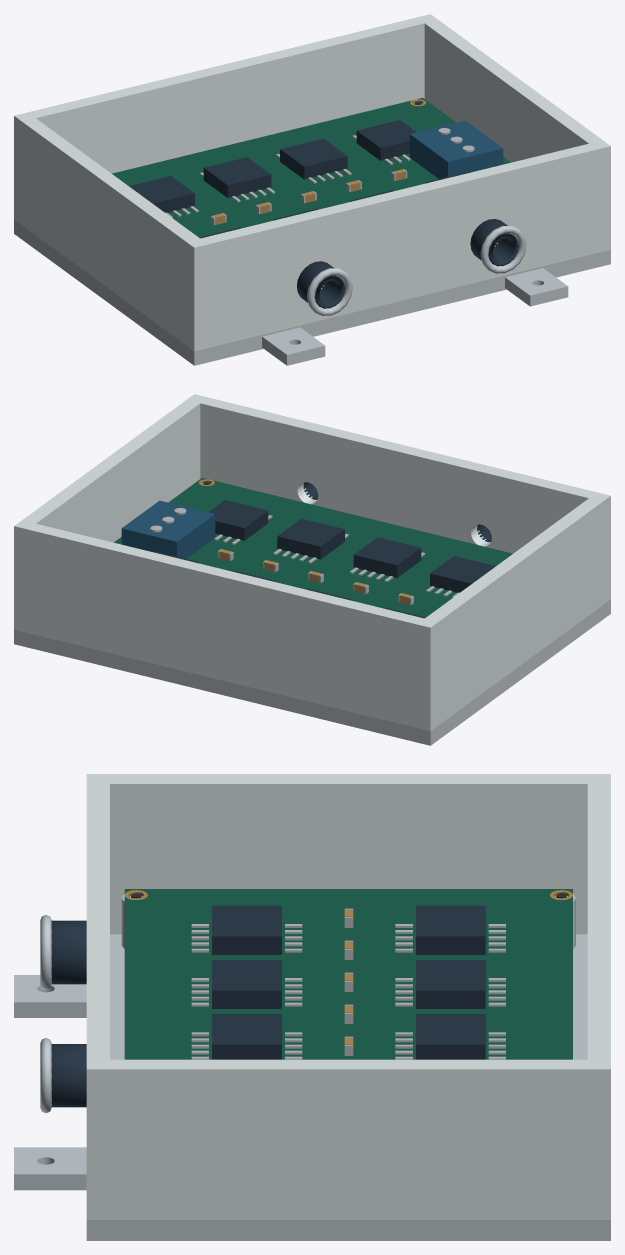
Rendered from control-box.glb.
3 views of the same model, one above another, from view 1: azimuth 30°, elevation 25°; view 2: azimuth 150°, elevation 25°; view 3: azimuth 270°, elevation 25° (orthographic). The views are drawn at different scales.
Parts seen in each view (by area): view 1: HousingWallZ0.086, HousingWallZ-0.086, HousingWallX-0.116, FR4Board, HousingWallX0.116, HousingBase, TerminalBody, IC_0_1, IC_0_2, MountLug-0.07, MountLug0.07, IC_0_3 (+5 smaller); view 2: HousingWallZ-0.086, HousingWallZ0.086, HousingWallX-0.116, FR4Board, HousingWallX0.116, HousingBase, TerminalBody, IC_1_1, IC_1_2, IC_1_3, IC_1_0; view 3: HousingWallX0.116, HousingWallX-0.116, FR4Board, HousingBase, HousingWallZ-0.086, HousingWallZ0.086, IC_0_0, IC_1_0, IC_0_1, IC_1_1, IC_0_2, IC_1_2 (+6 smaller).
Part boxes in pixels (x1,y1,x2,y2): HousingWallZ0.086: (186, 140, 610, 351); HousingWallZ-0.086: (14, 14, 437, 224); HousingWallX-0.116: (22, 118, 199, 344); FR4Board: (112, 97, 510, 237); HousingWallX0.116: (424, 20, 602, 162); HousingBase: (14, 219, 610, 365); TerminalBody: (409, 120, 503, 178); IC_0_1: (203, 157, 271, 197); IC_0_2: (280, 138, 347, 179); MountLug-0.07: (262, 327, 325, 365); MountLug0.07: (505, 268, 568, 306); IC_0_3: (356, 120, 416, 160); HousingWallZ-0.086: (14, 520, 438, 731); HousingWallZ0.086: (187, 394, 610, 604); HousingWallX-0.116: (425, 498, 602, 724); FR4Board: (114, 478, 512, 617); HousingWallX0.116: (22, 400, 200, 542); HousingBase: (14, 599, 610, 745); TerminalBody: (121, 500, 215, 558); IC_1_1: (353, 537, 421, 577); IC_1_2: (277, 518, 344, 559); IC_1_3: (208, 500, 268, 540); IC_1_0: (430, 556, 495, 592); HousingWallX0.116: (110, 1059, 587, 1219); HousingWallX-0.116: (110, 774, 587, 934); FR4Board: (124, 889, 572, 1059); HousingBase: (86, 934, 610, 1240); HousingWallZ-0.086: (587, 774, 610, 1219); HousingWallZ0.086: (86, 774, 109, 1219); IC_0_0: (416, 905, 485, 954); IC_1_0: (212, 905, 281, 954); IC_0_1: (416, 960, 485, 1008); IC_1_1: (212, 960, 281, 1008); IC_0_2: (416, 1014, 485, 1059); IC_1_2: (212, 1014, 281, 1059).
Size of the model in its own units: 0.24 by 0.065 by 0.205.
